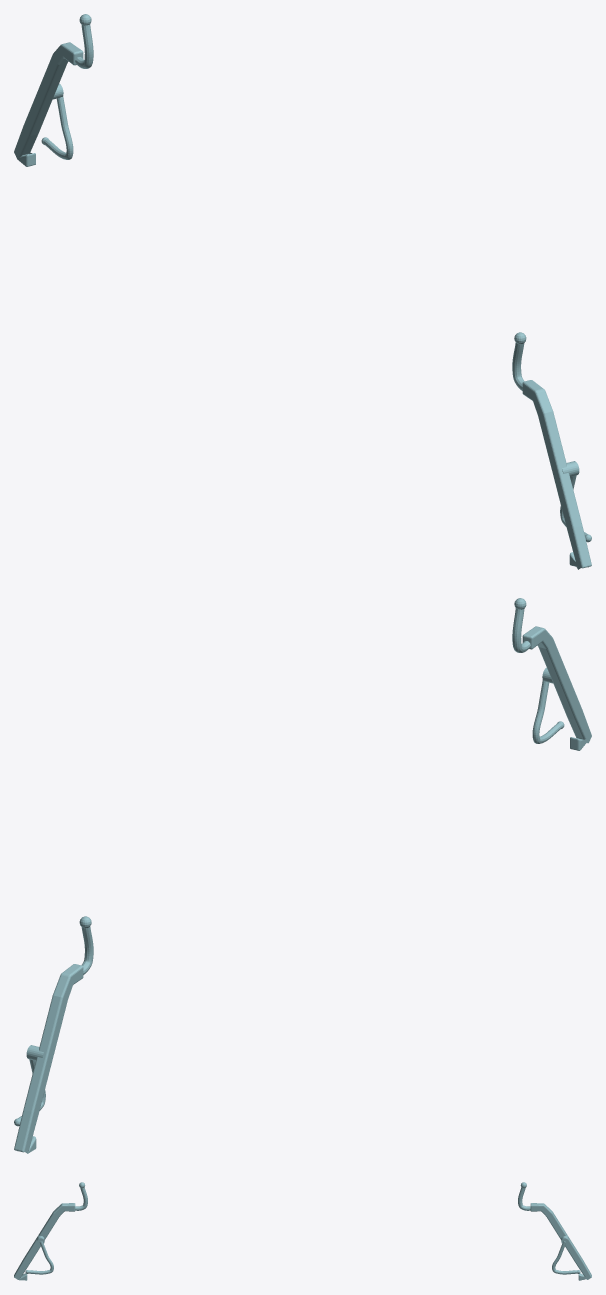
3 renders of one model, top to bottom at view 1: azimuth 30°, elevation 25°; view 2: azimuth 150°, elevation 25°; view 3: azimuth 270°, elevation 25°, orthographic. The views are drawn at different scales.
Visible parts, largest first — view 1: visual_part_001_0_0, visual_part_000_0_0; view 2: visual_part_000_0_0, visual_part_001_0_0; view 3: visual_part_001_0_0, visual_part_000_0_0, visual_part_002_0_0, visual_part_003_0_0.
Part boxes in pixels (x1,y1,x2,y2): visual_part_001_0_0: (512, 332, 591, 569); visual_part_000_0_0: (14, 14, 93, 166); visual_part_000_0_0: (14, 916, 93, 1153); visual_part_001_0_0: (512, 598, 591, 750); visual_part_001_0_0: (14, 1182, 87, 1280); visual_part_000_0_0: (518, 1182, 591, 1280); visual_part_002_0_0: (552, 1241, 580, 1274); visual_part_003_0_0: (25, 1241, 53, 1274).
Size of the model in its own units: 0.0196 by 0.1588 by 0.8558.
